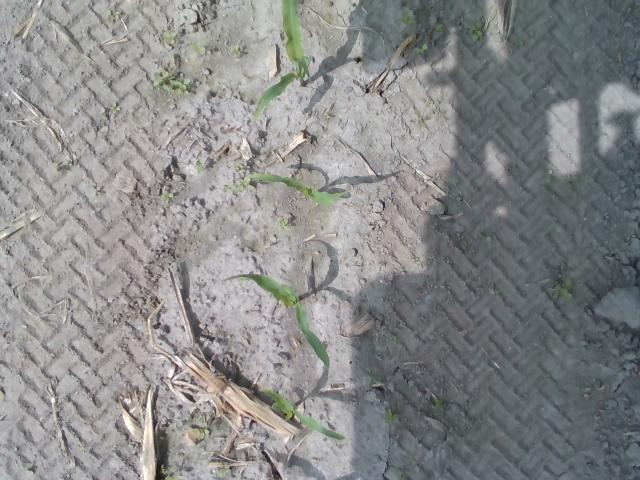Maize: (219, 271, 332, 366), (252, 0, 312, 121), (258, 386, 346, 443), (248, 172, 346, 207)
Weeds: (154, 72, 192, 98), (551, 275, 575, 300), (234, 164, 251, 192), (382, 408, 400, 426), (468, 22, 482, 41), (402, 9, 418, 24), (193, 426, 211, 438), (158, 466, 172, 480), (276, 218, 290, 232), (414, 44, 428, 57), (164, 31, 176, 44), (433, 399, 446, 411), (229, 44, 240, 58), (108, 100, 119, 114), (192, 44, 206, 54), (216, 467, 230, 477), (162, 192, 172, 204), (434, 22, 444, 32), (104, 8, 112, 18)
